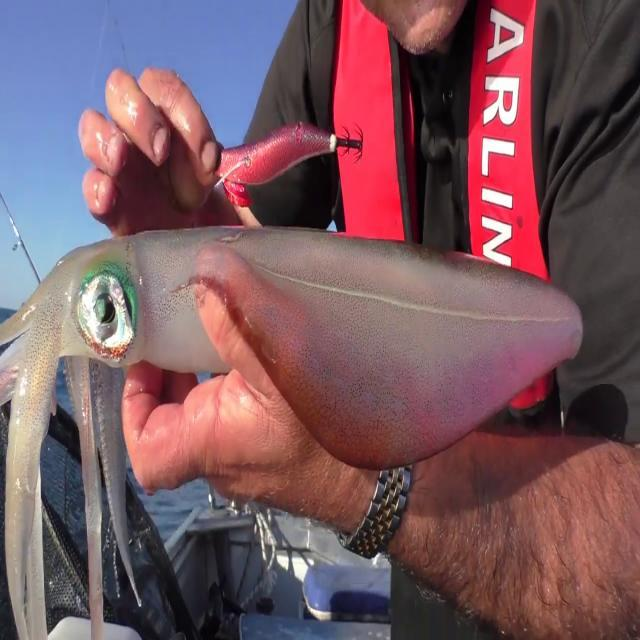squid: (0, 226, 583, 468)
